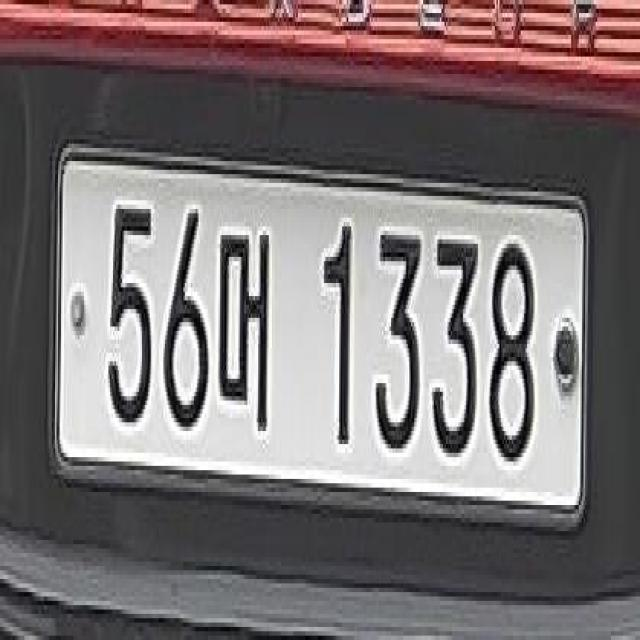illegal_plate: (55, 140, 600, 544)
